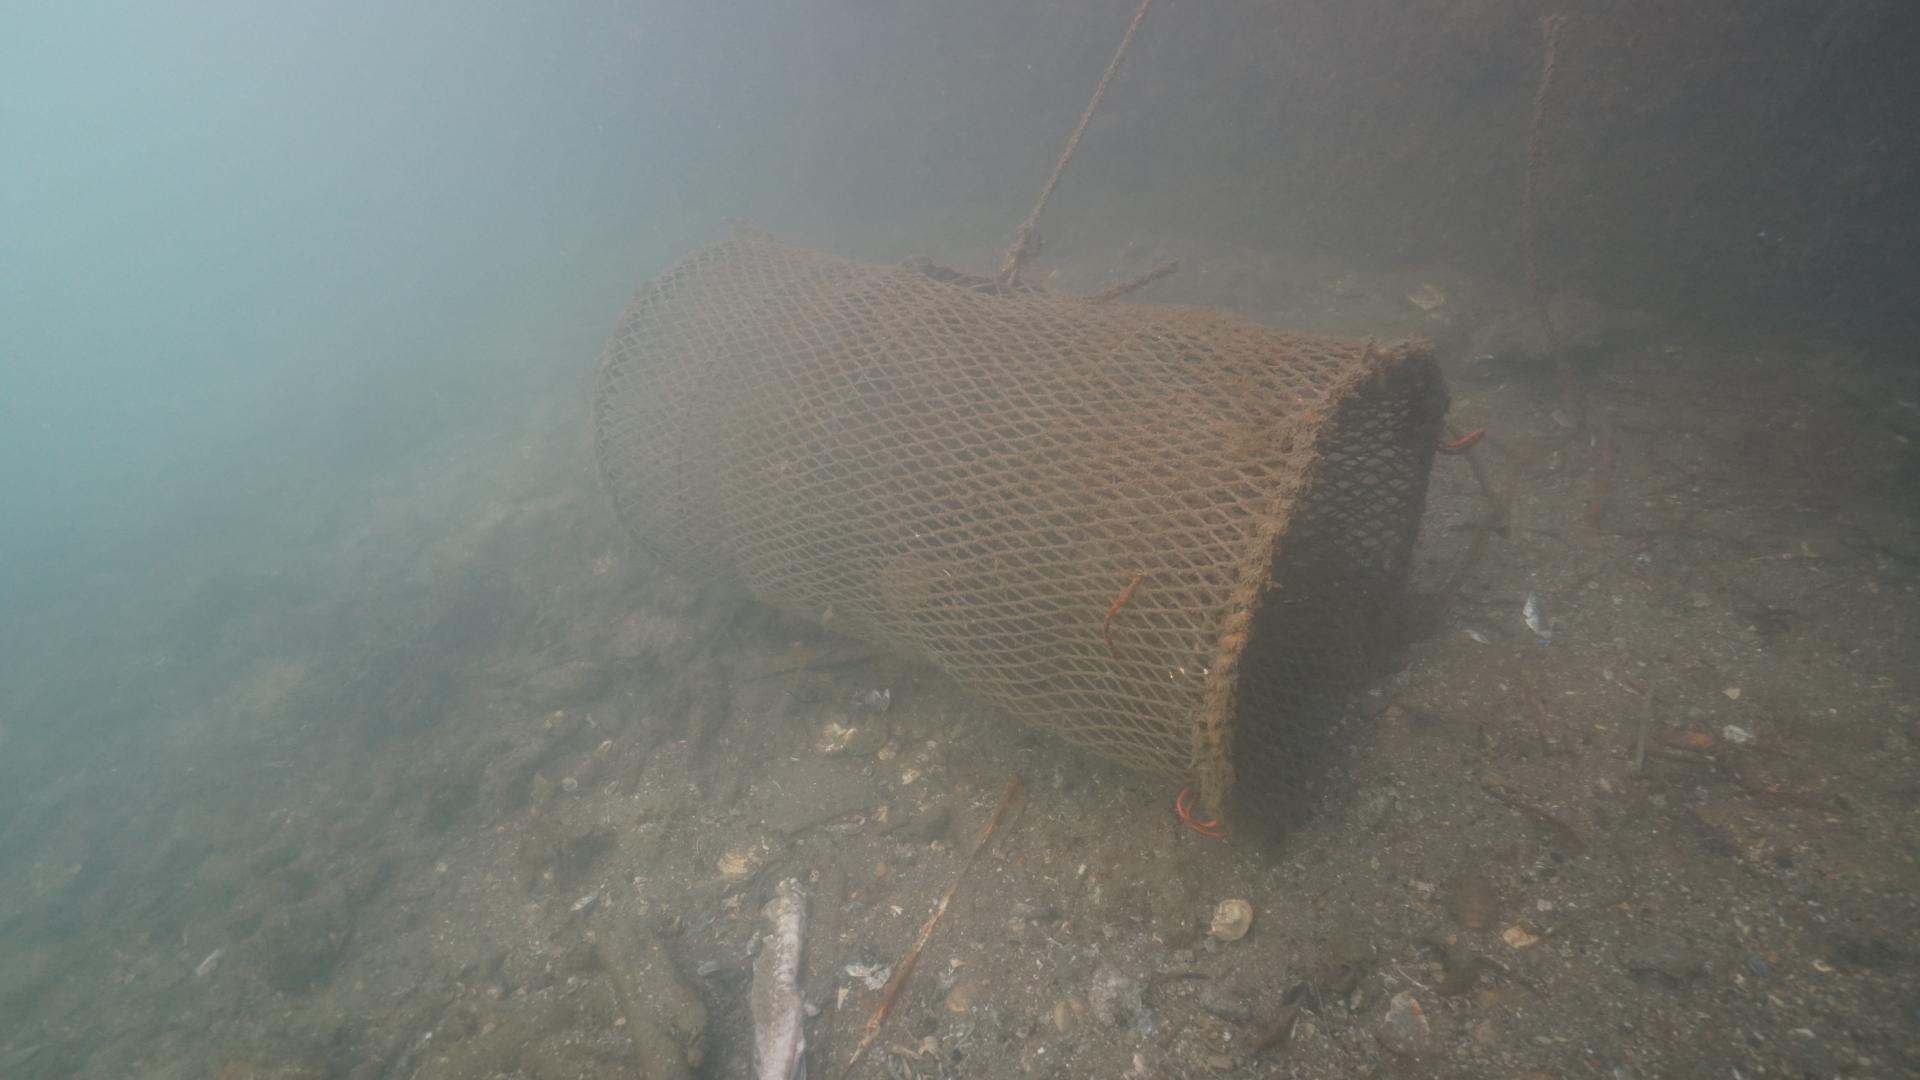rope: (1514, 22, 1621, 538), (996, 0, 1150, 281)
spring fish trap: (587, 228, 1452, 841)
